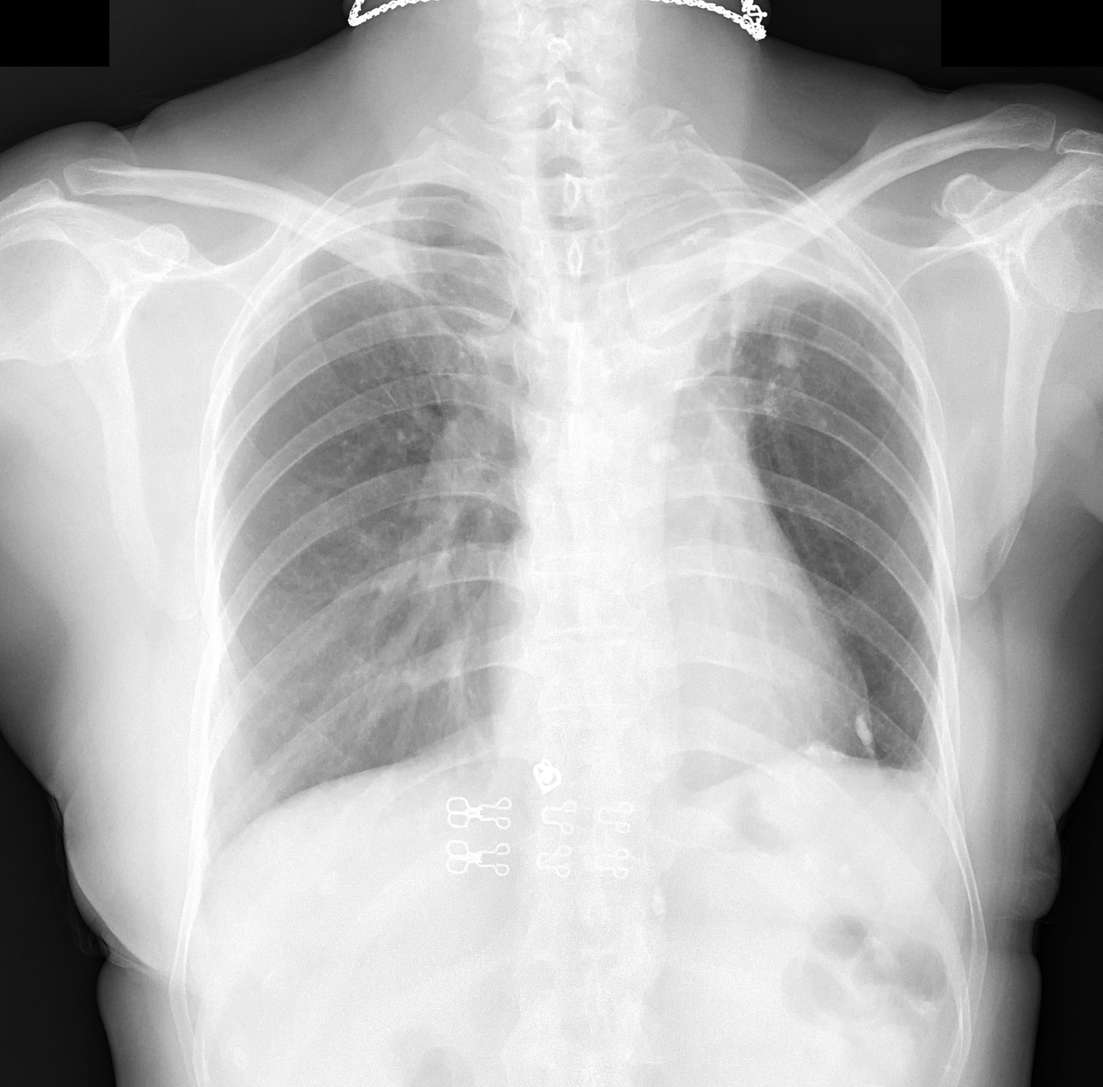Cardiomegaly: (481, 663, 873, 790)
Pleural thickening: (610, 182, 890, 371), (803, 713, 878, 764), (913, 742, 957, 819)
Pulmonary fibrosis: (714, 320, 812, 437)
